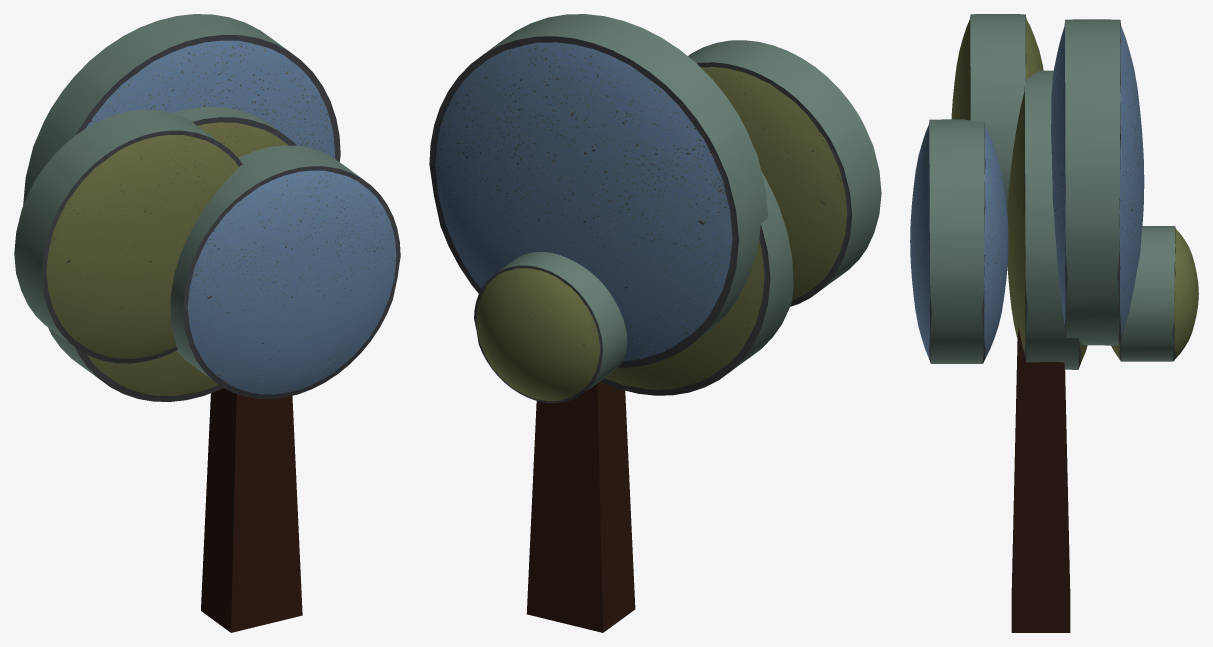
File: Tree 06.fbx
3 views of the same model, side by side, from view 1: azimuth 30°, elevation 25°; view 2: azimuth 150°, elevation 25°; view 3: azimuth 270°, elevation 25° (orthographic). The views are drawn at different scales.
Parts seen in each view (by area): view 1: tree_95_03, tree_95_02, tree_95_00, tree_95_trunk, tree_95_04; view 2: tree_95_00, tree_95_02, tree_95_trunk, tree_95_01, tree_95_04; view 3: tree_95_00, tree_95_03, tree_95_trunk, tree_95_04, tree_95_02, tree_95_01.
Boxes of the visible parts, <box> form: tree_95_03: <box>170,145,400,399</box>; tree_95_02: <box>14,109,242,363</box>; tree_95_00: <box>23,14,340,205</box>; tree_95_trunk: <box>201,388,302,632</box>; tree_95_04: <box>48,107,296,401</box>; tree_95_00: <box>429,14,768,367</box>; tree_95_02: <box>688,40,881,306</box>; tree_95_trunk: <box>526,381,635,632</box>; tree_95_01: <box>474,252,627,403</box>; tree_95_04: <box>600,171,793,395</box>; tree_95_00: <box>1051,19,1144,345</box>; tree_95_03: <box>910,119,1008,363</box>; tree_95_trunk: <box>1011,326,1070,632</box>; tree_95_04: <box>1007,70,1087,369</box>; tree_95_02: <box>951,14,1043,211</box>; tree_95_01: <box>1111,226,1198,361</box>.
Bounding box in the file's own units: 14.33 × 22.69 × 10.59.
